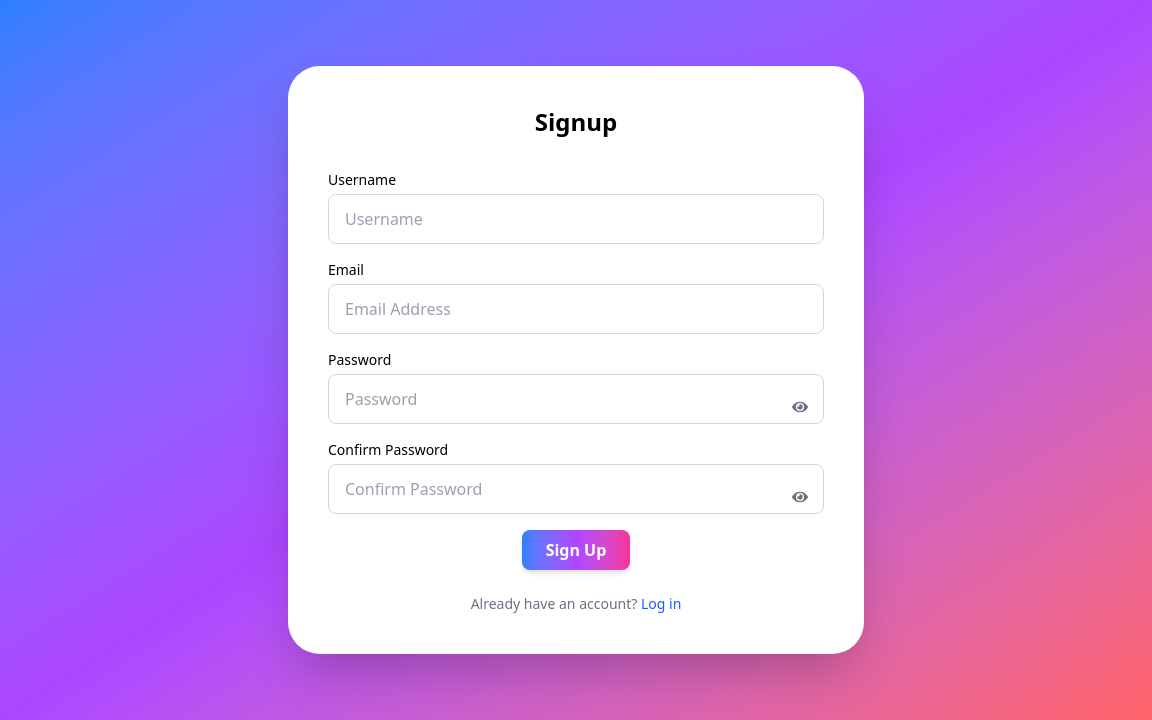
Signup Component › shows a success message after successful signup
Type "newuser" into the field labelled "Username" at (576, 219), box [328,194,824,244]
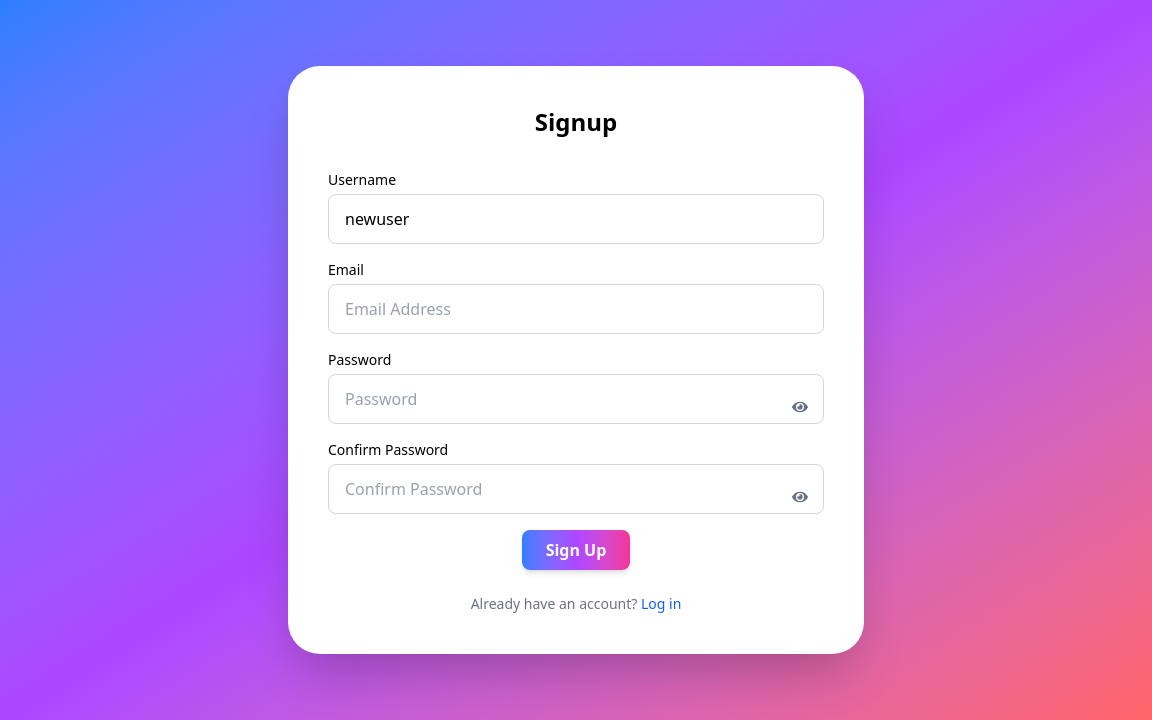
Type "newuser@example.com" into the field labelled "Email" at (576, 309), box [328,284,824,334]
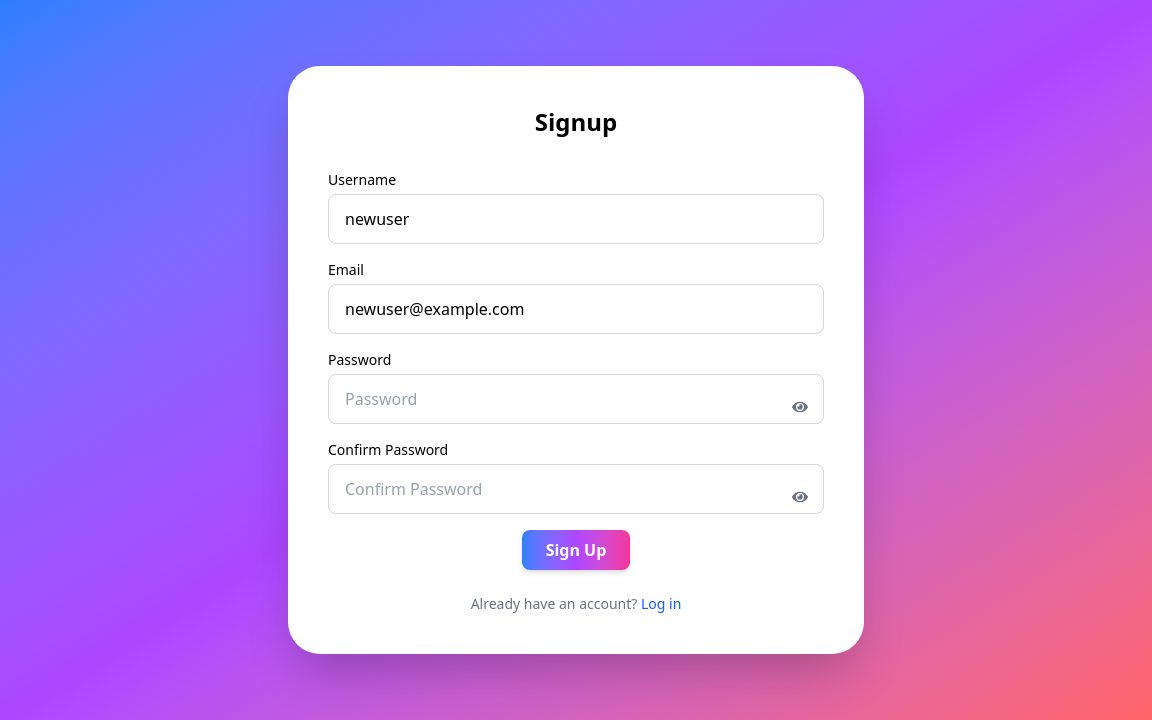
Type "password123" into the password field labelled "Password" at (576, 399), box [328,374,824,424]
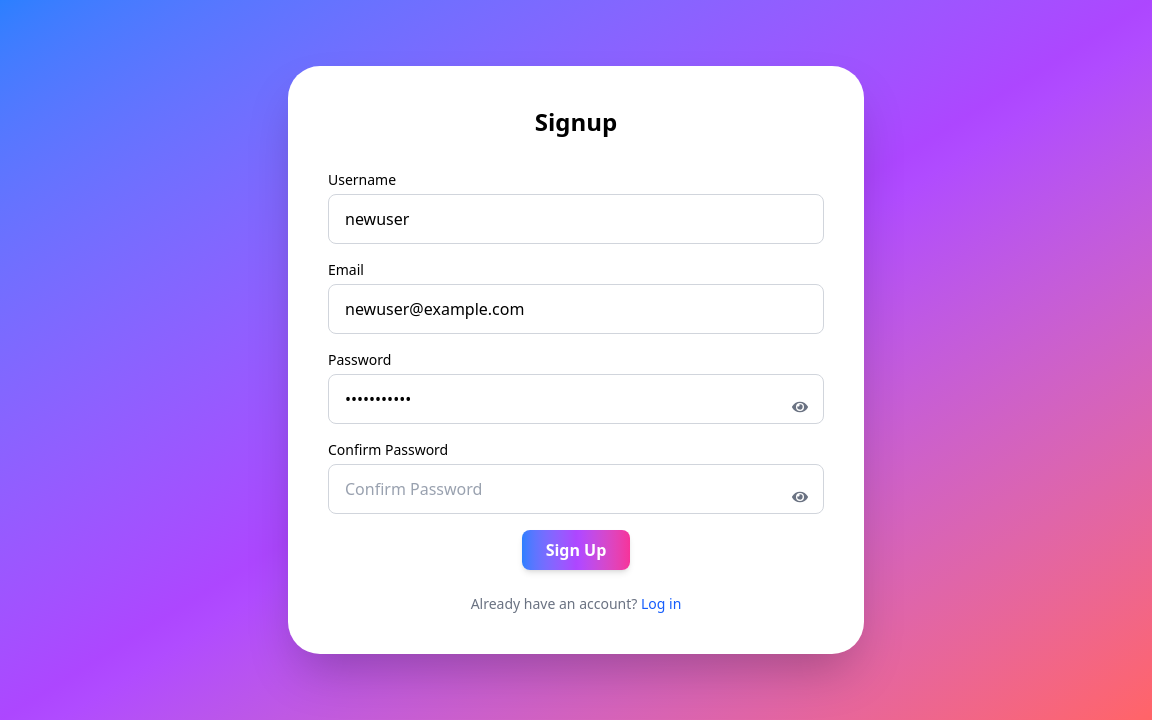
Type "password123" into the password field labelled "Confirm Password" at (576, 489), box [328,464,824,514]
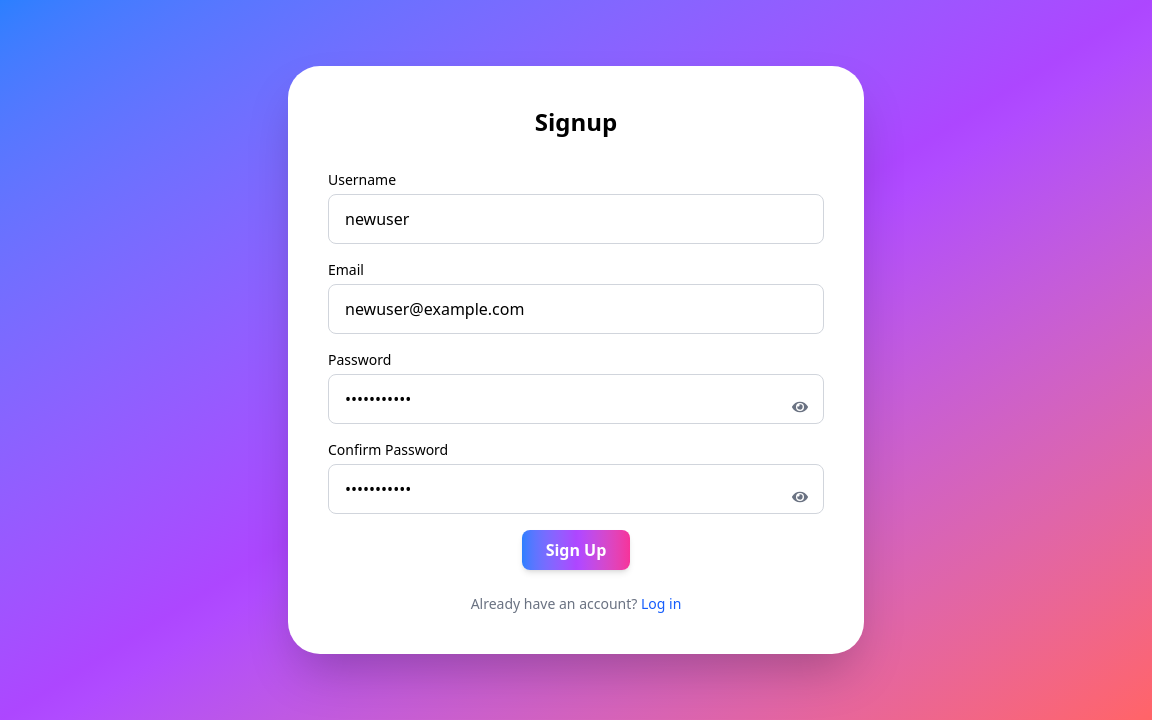
Click the button "Sign Up" at (576, 550), box [522,530,630,570]
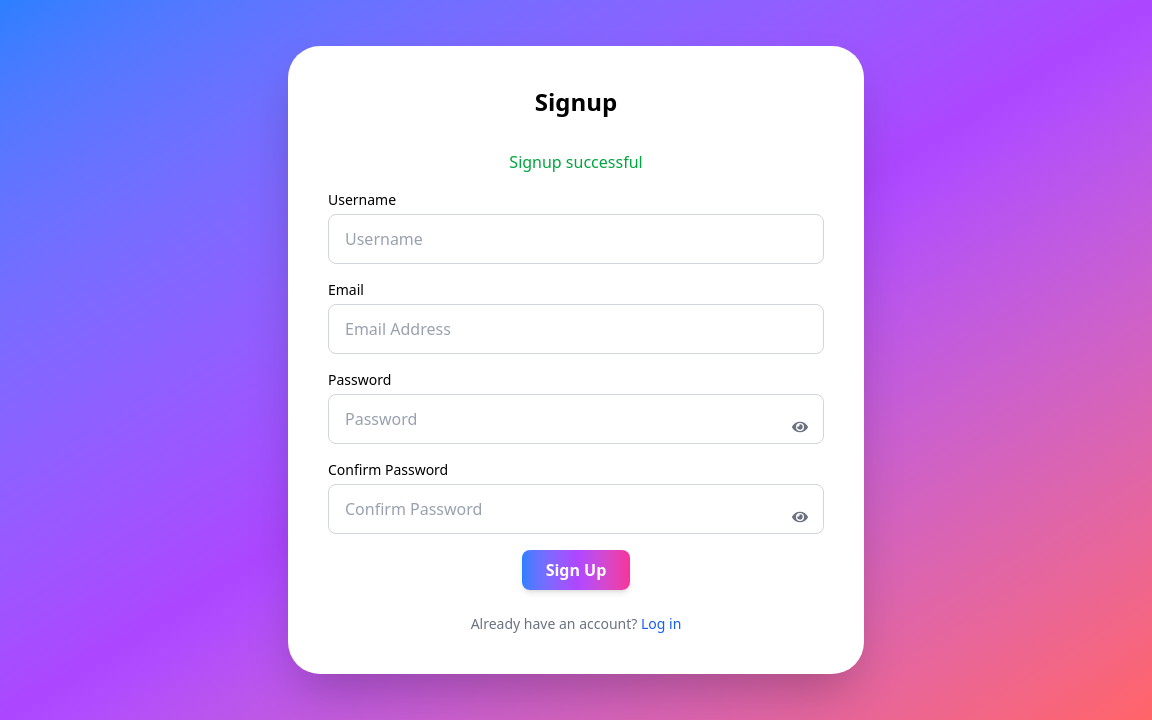
Expected: the text "Signup successful" is shown, [509,151,643,173]
